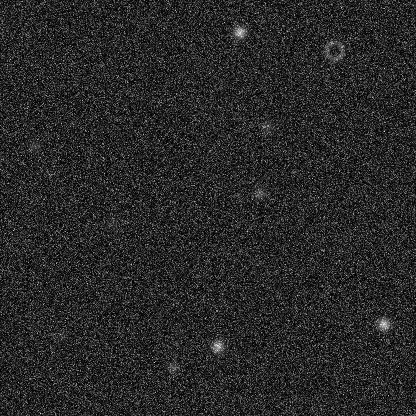Ring: (322, 38, 346, 62)
Spot: (259, 118, 275, 134), (164, 359, 180, 375), (53, 327, 69, 343), (25, 137, 41, 153), (104, 215, 120, 231), (209, 338, 225, 354), (375, 315, 391, 331), (231, 24, 247, 40), (251, 185, 267, 201)
